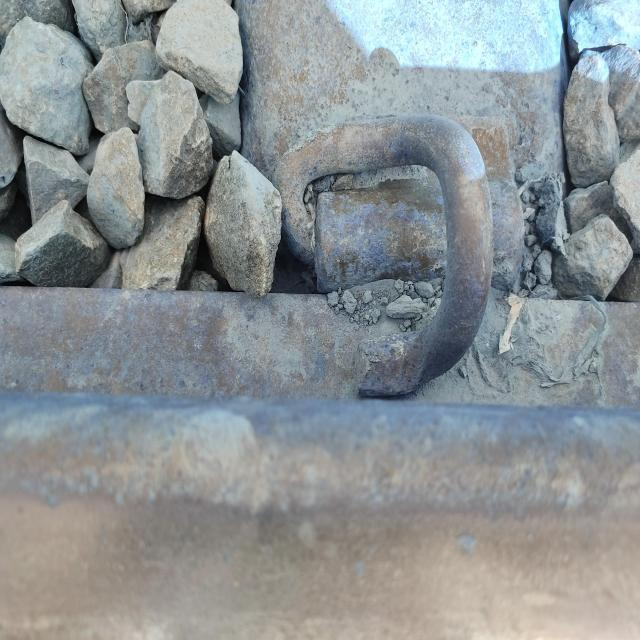Good Fasteners: (269, 93, 543, 399)
